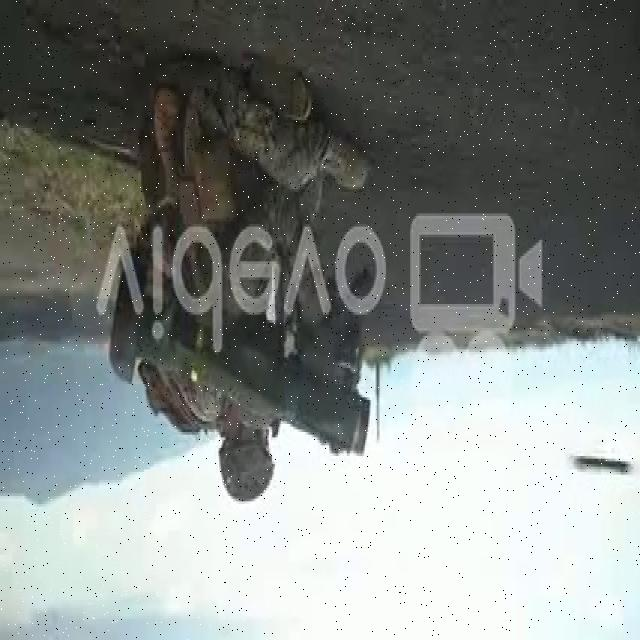bazooka: (109, 275, 374, 463)
